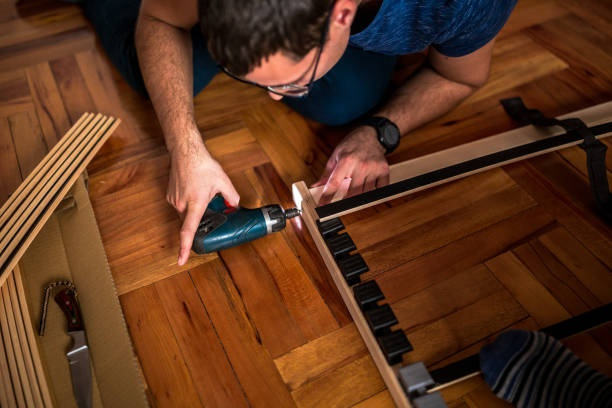driller: (173, 180, 302, 259)
knife: (53, 286, 100, 408)
